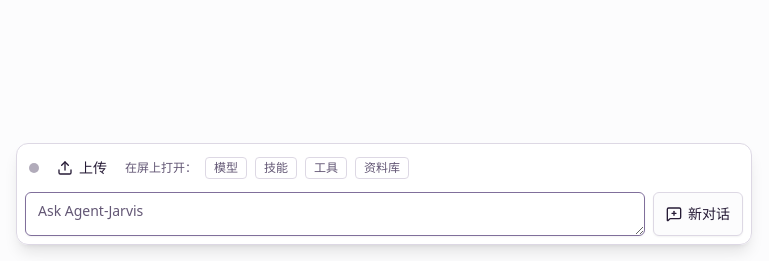
Test: FloatingChat › collapse panel › ⑥ 本轮用量常驻控制台，新对话清零（REQ-NF-060 ④）
Type "q" into the text box with placeholder "Ask Agent-Jarvis".
click(335, 214); type("q")  # box [25,192,645,236]
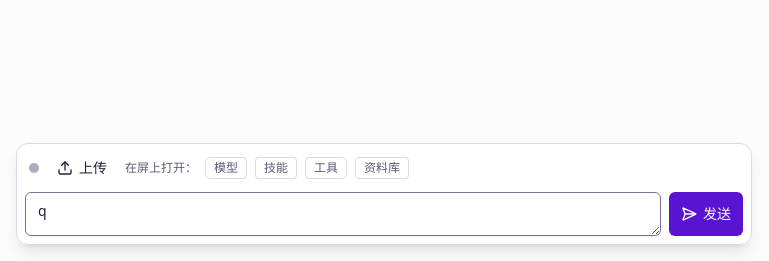
Submit the form with placeholder "Ask Agent-Jarvis", box [25,192,743,236]
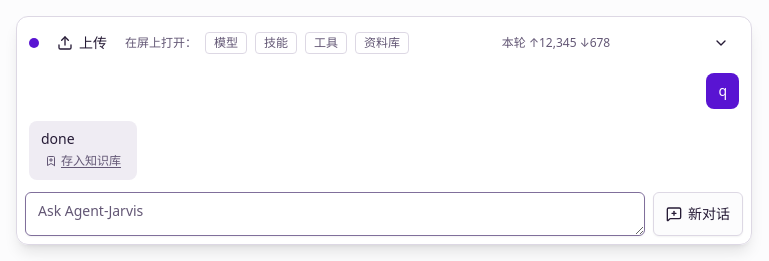
expect the text "done" is shown: met, box [41,129,75,148]
expect the text "本轮 ↑12,345 ↓678" is shown: met, box [502,35,610,51]
# 新对话之后不能还挂着上一轮的数字——那会被当成这一轮的。
Click the button "新对话".
click(698, 214)  # box [653,192,743,236]
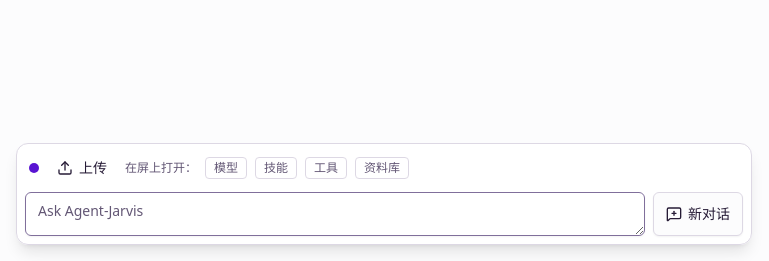
expect the text "本轮 ↑" is gone: met
